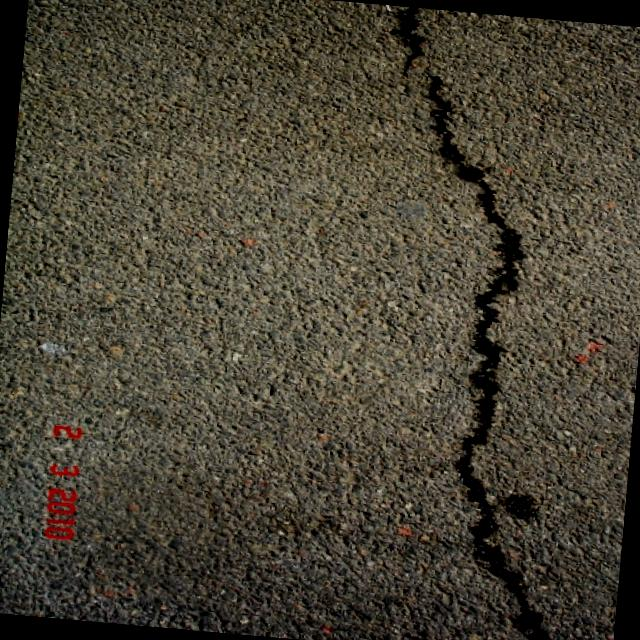crack: (323, 4, 607, 640)
